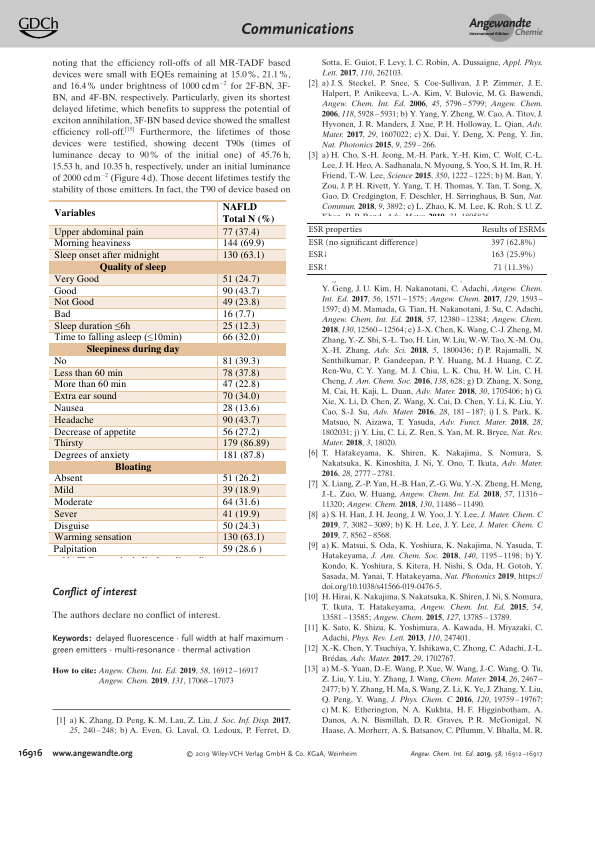borderless: (46, 199, 285, 557), (305, 221, 547, 274)
cell: (53, 330, 182, 345), (53, 249, 160, 262), (221, 201, 275, 226), (85, 343, 180, 356), (53, 226, 144, 239), (53, 319, 131, 334), (53, 425, 136, 439), (307, 238, 419, 248), (53, 531, 132, 544), (53, 237, 131, 250), (53, 449, 130, 462), (53, 378, 126, 391), (53, 367, 123, 380), (98, 261, 167, 274), (53, 390, 117, 403), (481, 225, 546, 235), (221, 437, 270, 450), (53, 273, 99, 286), (52, 543, 97, 556), (221, 237, 265, 250), (221, 249, 265, 262), (221, 449, 265, 462), (221, 531, 265, 544), (307, 225, 363, 235), (53, 207, 96, 220), (221, 284, 260, 298), (221, 425, 260, 439), (113, 460, 152, 474), (221, 519, 260, 533), (53, 296, 94, 309), (53, 414, 94, 427), (221, 543, 262, 556), (53, 496, 93, 509), (53, 519, 90, 533), (221, 226, 260, 239), (221, 273, 260, 286), (221, 296, 260, 309), (221, 320, 260, 333), (221, 331, 260, 344), (221, 355, 260, 368), (221, 367, 260, 380), (221, 378, 260, 391), (221, 390, 260, 403), (221, 402, 260, 415), (221, 414, 260, 427), (221, 472, 260, 485), (221, 484, 260, 497), (221, 496, 260, 509), (221, 508, 260, 521), (492, 262, 534, 273), (490, 238, 536, 248), (490, 250, 536, 260), (221, 308, 255, 321), (53, 402, 84, 415), (53, 437, 84, 450), (53, 472, 83, 485), (53, 284, 77, 298), (53, 508, 77, 521), (53, 484, 74, 497), (307, 262, 329, 273), (53, 308, 71, 321), (307, 250, 329, 260), (53, 355, 67, 368)
